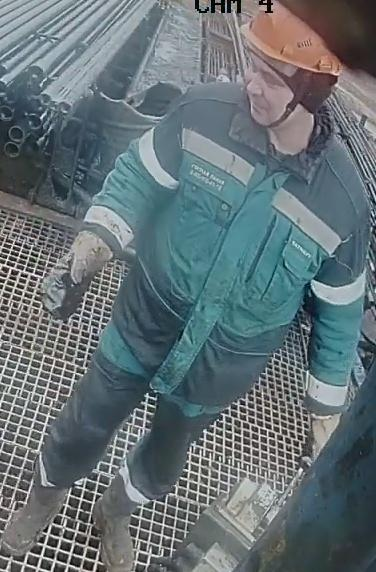gloves: (35, 207, 132, 324), (300, 390, 347, 461)
helmet: (238, 0, 345, 78)
vest: (111, 83, 372, 406)
